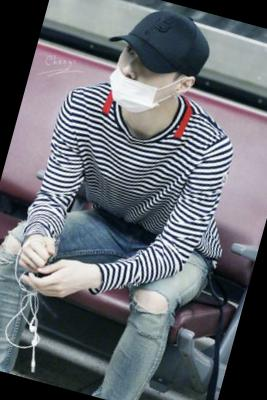mask_weared_incorrect: (106, 44, 179, 120)
